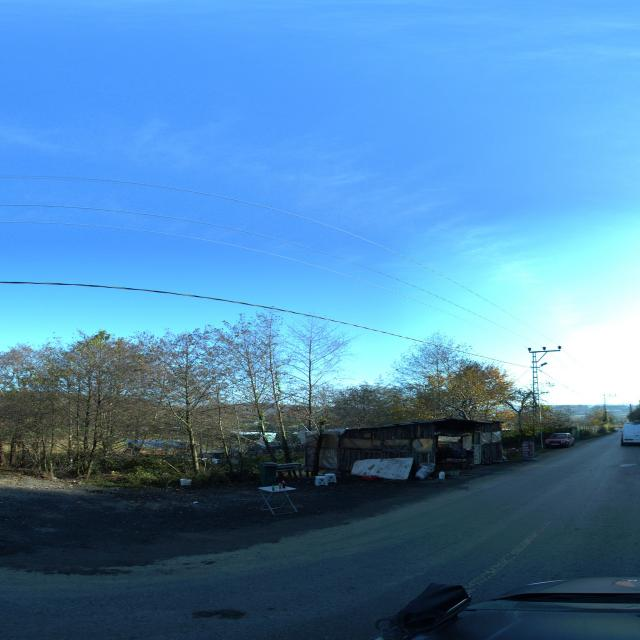Utility Pole Information Plate: (539, 411, 541, 413), (540, 414, 541, 416)
